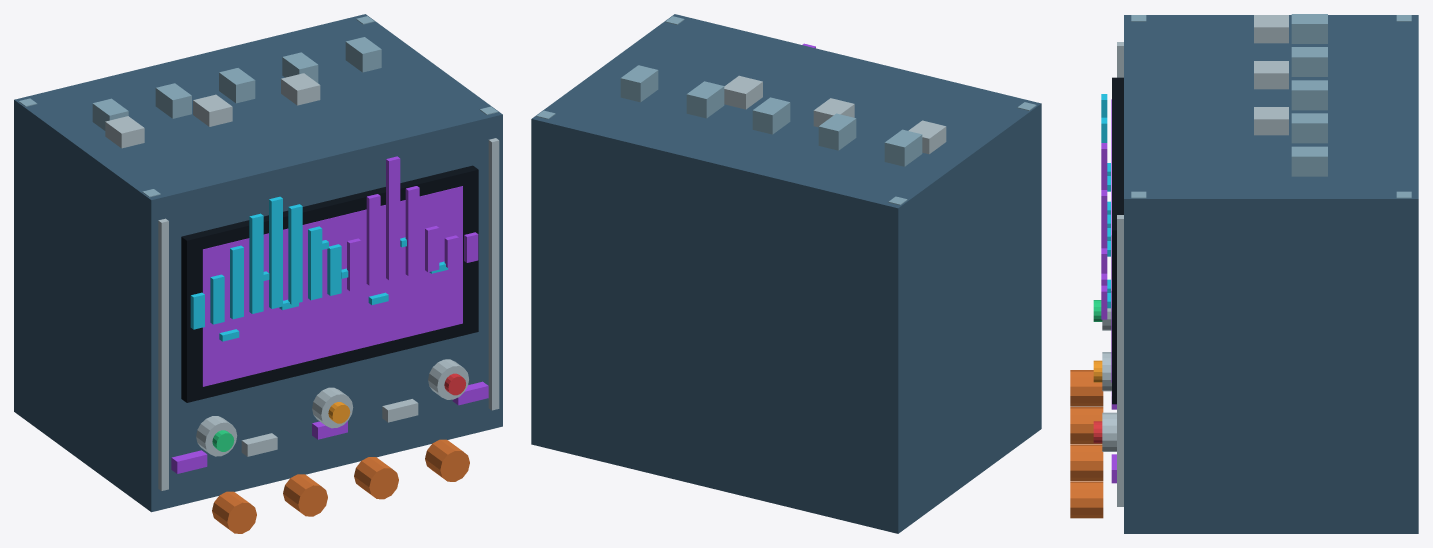
The model's file is 40_L72_ResidualVaporAnalyzer.fbx.
The picture shows the model from 3 angles, left to right: view 1: azimuth 30°, elevation 25°; view 2: azimuth 150°, elevation 25°; view 3: azimuth 270°, elevation 25°; orthographic projection. The views are drawn at different scales.
Parts seen in each view (by area): view 1: ResidualVaporAnalyzer; view 2: ResidualVaporAnalyzer; view 3: ResidualVaporAnalyzer.
Part boxes in pixels (box(x1,y1,x2,y2)): ResidualVaporAnalyzer: box(14, 14, 502, 533); ResidualVaporAnalyzer: box(531, 14, 1041, 533); ResidualVaporAnalyzer: box(1070, 14, 1418, 533).
Bounding box in the file's own units: 99 × 94.21 × 79.25.
